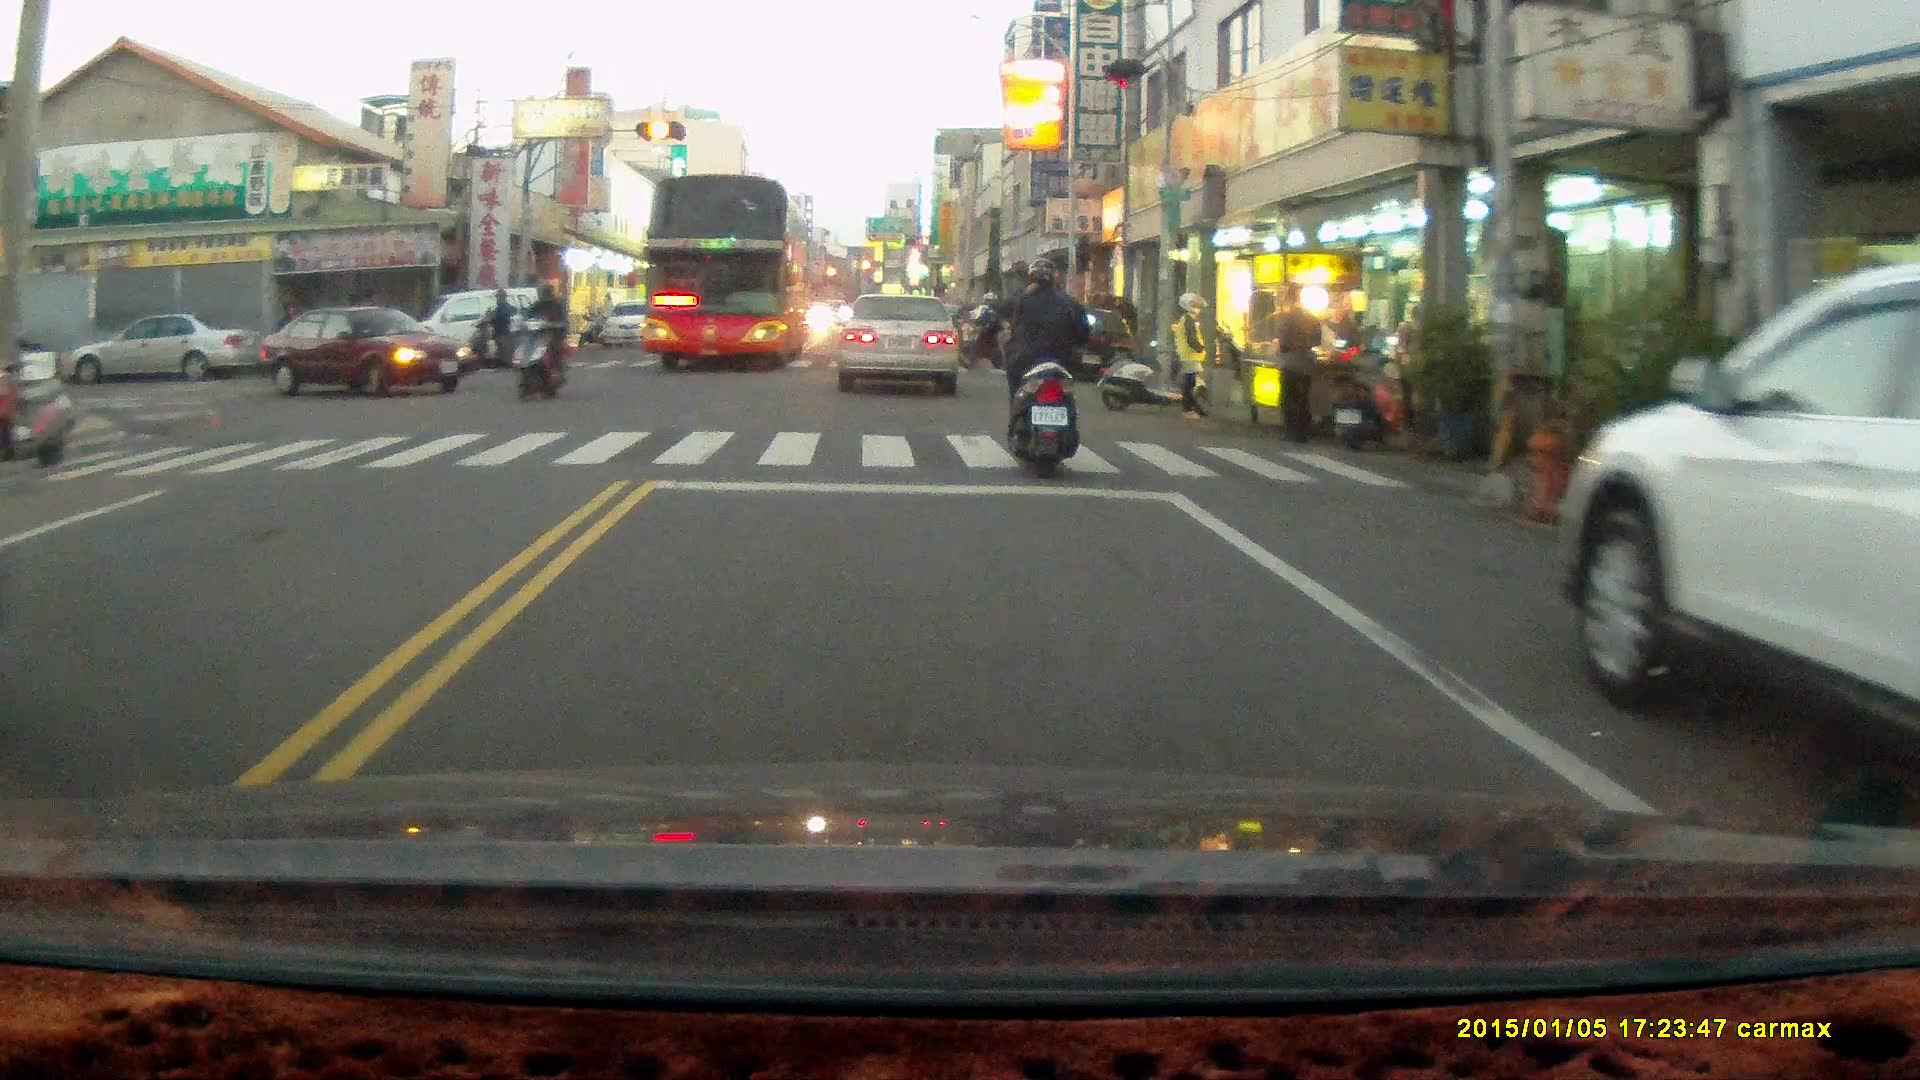pedestrian: (1272, 278, 1320, 441), (1168, 281, 1208, 415)
rider: (992, 245, 1098, 471), (512, 274, 568, 402), (463, 285, 523, 367), (956, 287, 1013, 369)
vehicle: (1550, 269, 1920, 829), (642, 174, 807, 375), (261, 301, 468, 394), (56, 311, 241, 391), (836, 291, 964, 397), (1042, 301, 1141, 380), (603, 298, 668, 348)
